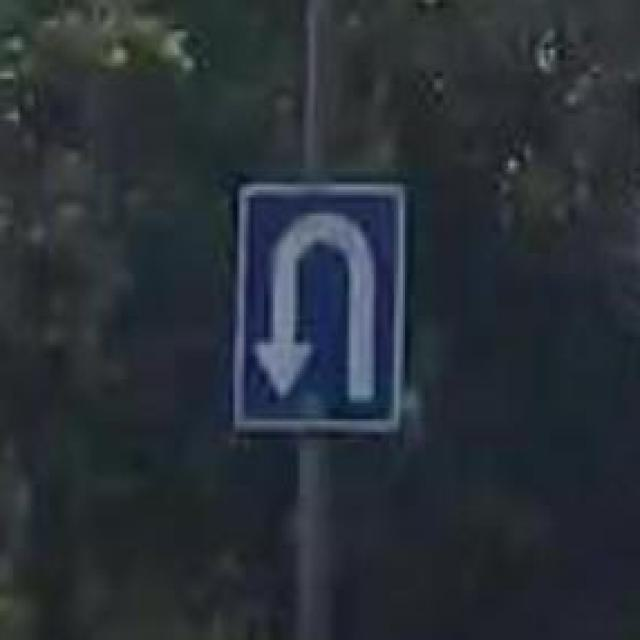U-turn: (233, 185, 401, 431)
